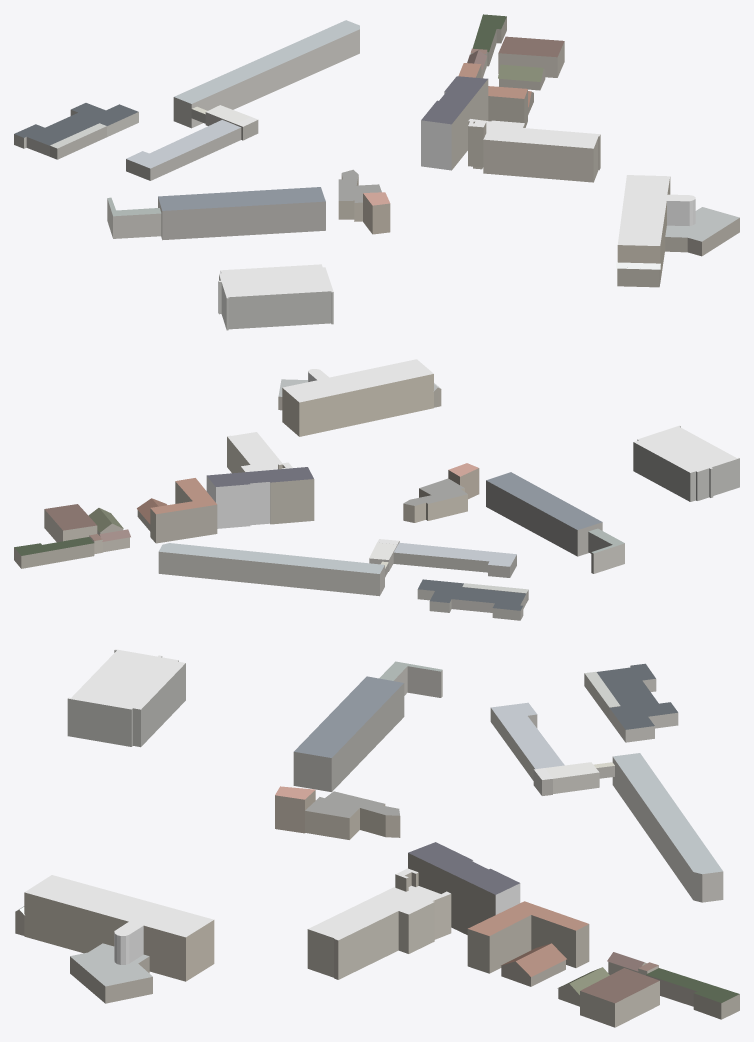
3 renders of one model, top to bottom at view 1: azimuth 30°, elevation 25°; view 2: azimuth 150°, elevation 25°; view 3: azimuth 270°, elevation 25°, orthographic. The views are drawn at different scales.
Visible parts, largest first — view 1: tuile; view 2: tuile; view 3: tuile.
Part boxes in pixels (x1=…): tuile: x1=14, y1=14, x2=739, y2=330; tuile: x1=14, y1=359, x2=739, y2=620; tuile: x1=15, y1=649, x2=739, y2=1027.
Bounding box in the file's own units: 241 × 22.98 × 235.
